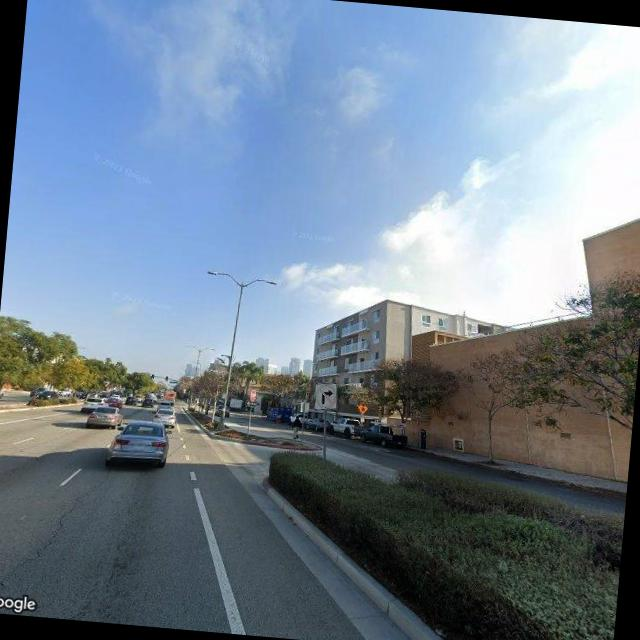pothole: (0, 462, 107, 605)
